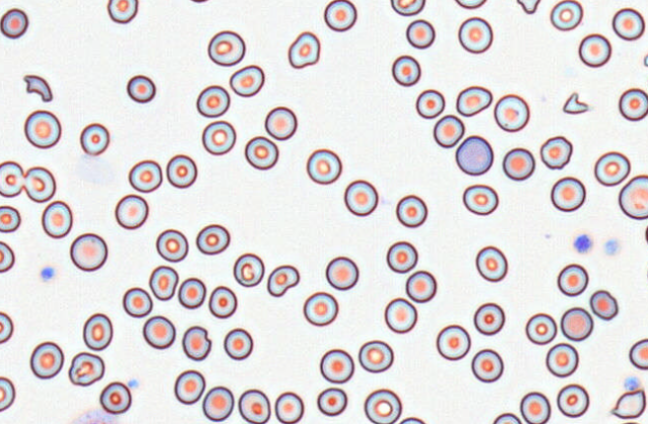PLT: (601, 236, 622, 257), (573, 233, 593, 254), (38, 266, 54, 284), (623, 376, 641, 391), (128, 378, 139, 389)
RBC: (455, 135, 493, 175), (23, 109, 61, 148), (69, 232, 107, 271), (493, 93, 529, 132), (207, 30, 245, 66), (618, 174, 648, 219), (29, 341, 64, 379), (363, 388, 401, 423), (306, 148, 342, 184), (343, 179, 378, 216), (458, 16, 493, 53), (594, 151, 630, 186), (435, 324, 470, 360), (550, 176, 585, 212), (201, 120, 236, 155), (303, 291, 338, 326), (319, 348, 354, 383), (114, 193, 148, 229), (358, 339, 393, 373), (244, 135, 278, 170), (23, 166, 56, 202), (384, 297, 417, 333), (475, 245, 507, 282), (41, 200, 72, 238), (82, 312, 113, 350), (560, 306, 593, 341), (545, 342, 578, 377), (229, 64, 264, 97), (202, 385, 234, 421), (142, 315, 175, 349), (539, 135, 572, 169), (556, 383, 589, 417), (578, 33, 611, 67), (155, 228, 188, 262), (128, 159, 162, 192), (325, 256, 358, 290), (196, 84, 230, 117), (264, 106, 297, 140), (173, 369, 205, 404), (195, 223, 230, 255), (238, 388, 270, 423), (462, 184, 498, 215), (502, 147, 535, 180), (612, 7, 645, 40), (471, 348, 503, 382), (233, 252, 264, 287), (525, 312, 557, 345), (99, 381, 131, 414), (473, 302, 505, 335), (395, 194, 427, 227), (549, 0, 583, 31), (166, 154, 197, 188), (148, 265, 178, 300), (386, 240, 417, 273), (433, 114, 464, 147), (557, 263, 588, 296), (323, 0, 356, 31), (618, 87, 648, 121), (405, 270, 436, 302), (519, 391, 550, 423), (79, 122, 109, 155), (223, 327, 253, 360), (274, 391, 304, 423), (208, 285, 237, 318), (122, 286, 152, 317), (177, 277, 206, 309), (391, 54, 420, 86), (589, 289, 618, 320), (316, 387, 347, 416), (0, 7, 28, 39), (0, 160, 24, 197), (405, 19, 435, 48), (415, 89, 445, 118), (126, 74, 155, 103), (106, 0, 138, 23), (629, 338, 647, 370), (390, 0, 425, 16), (0, 376, 15, 412), (0, 205, 20, 232), (0, 240, 14, 272), (0, 311, 13, 343), (491, 412, 521, 423), (454, 0, 487, 9), (398, 416, 426, 423), (644, 221, 648, 246), (643, 52, 648, 67), (188, 0, 212, 3), (646, 259, 648, 288)
Schistocyte: (68, 351, 106, 387), (287, 31, 320, 69), (181, 326, 213, 362), (457, 86, 494, 117), (609, 390, 646, 420), (268, 264, 301, 297), (22, 74, 53, 104), (560, 93, 593, 115), (515, 0, 543, 15)
